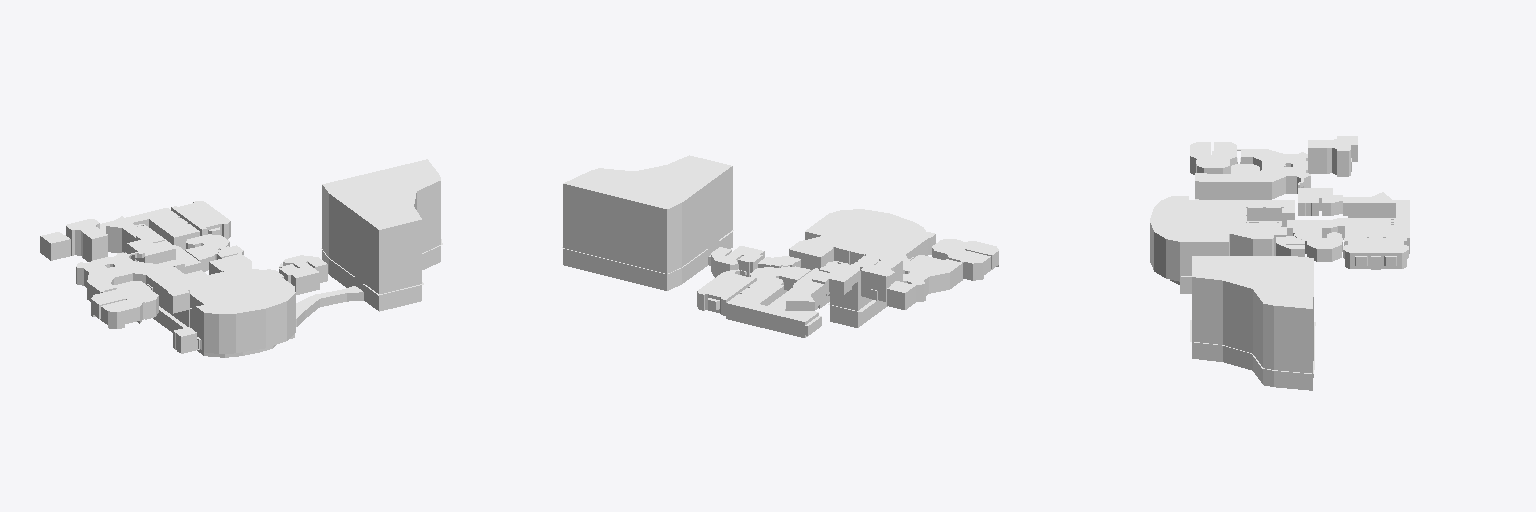
The model's file is MAP01_full.obj.
The picture shows the model from 3 angles: view 1: azimuth 30°, elevation 25°; view 2: azimuth 150°, elevation 25°; view 3: azimuth 270°, elevation 25°; orthographic projection.
Parts seen in each view (by area): view 1: MAP01; view 2: MAP01; view 3: MAP01.
Part boxes in pixels (x1,y1,x2,y2): MAP01: (40, 159, 442, 357); MAP01: (562, 155, 998, 337); MAP01: (1150, 136, 1409, 390).
Size of the model in its own units: 5912 by 1280 by 3520.